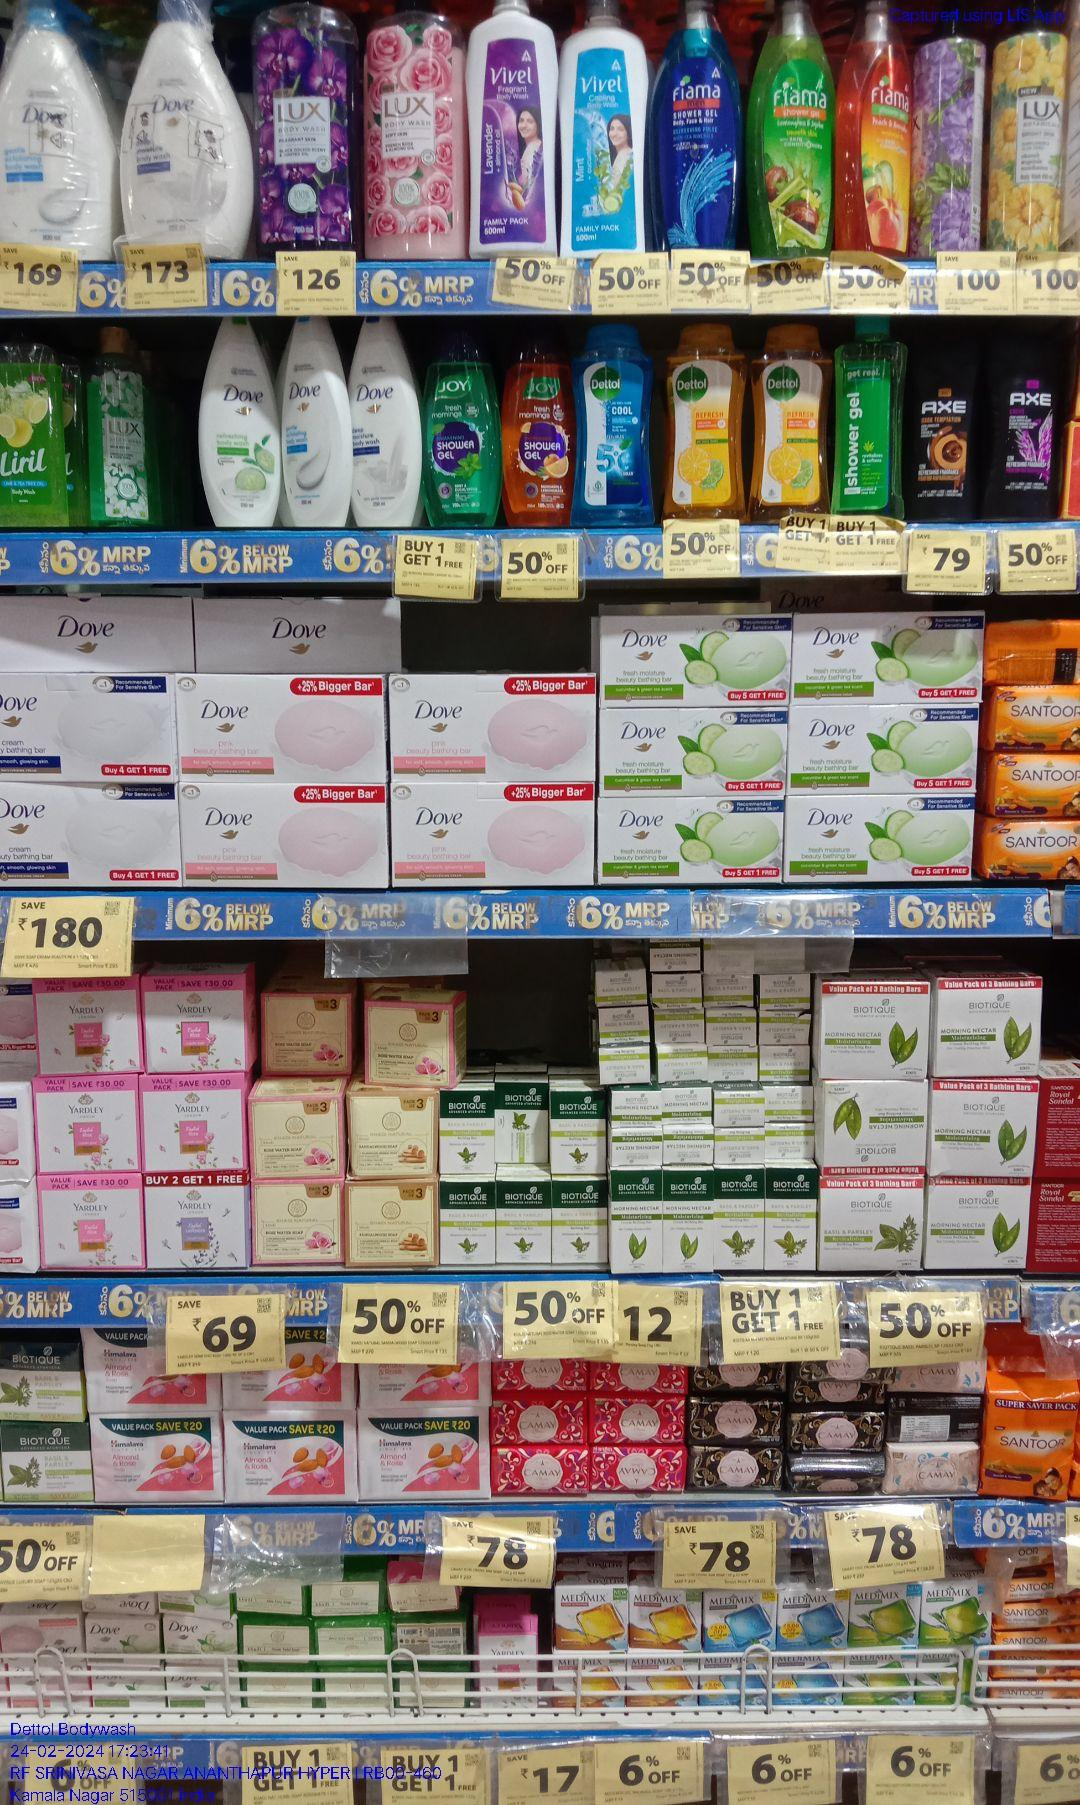Dettol_Bodywash_Cool: (577, 323, 661, 527)
Dettol_Bodywash_Refresh: (669, 323, 746, 519), (755, 328, 827, 514)
Dove_Deep_Moisture_Body_Wash_250ML: (355, 318, 423, 527)
Dove_Gentle_Exfoliating_Body_Wash_250ML: (287, 319, 351, 531)
Dove_Refreshing_Body_Wash_250ML: (195, 316, 282, 530)
Joy_Shower_Gel_Mandarin_and_Lemongrass_250ML: (504, 328, 577, 527)
Joy_Shower_Gel_Mint_and_Eucalyptus_250ML: (427, 328, 498, 526)
Lux_Body_Wash_Skin_Detox_Freesia_Scent_and_Alove_Vera_245ML: (91, 327, 157, 528)
